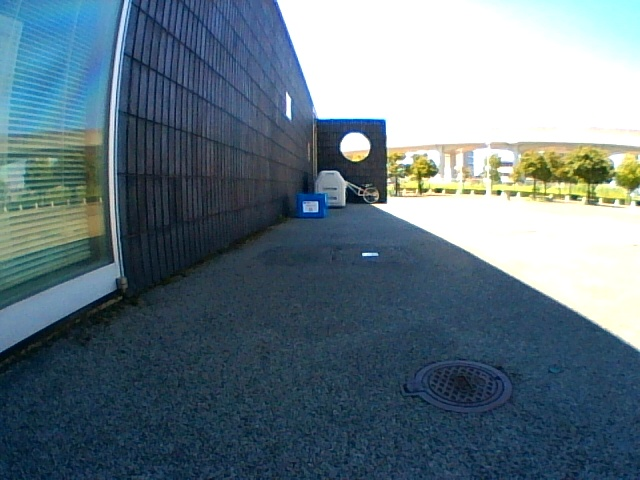blue_box: (298, 194, 326, 217)
tag: (304, 201, 318, 212)
